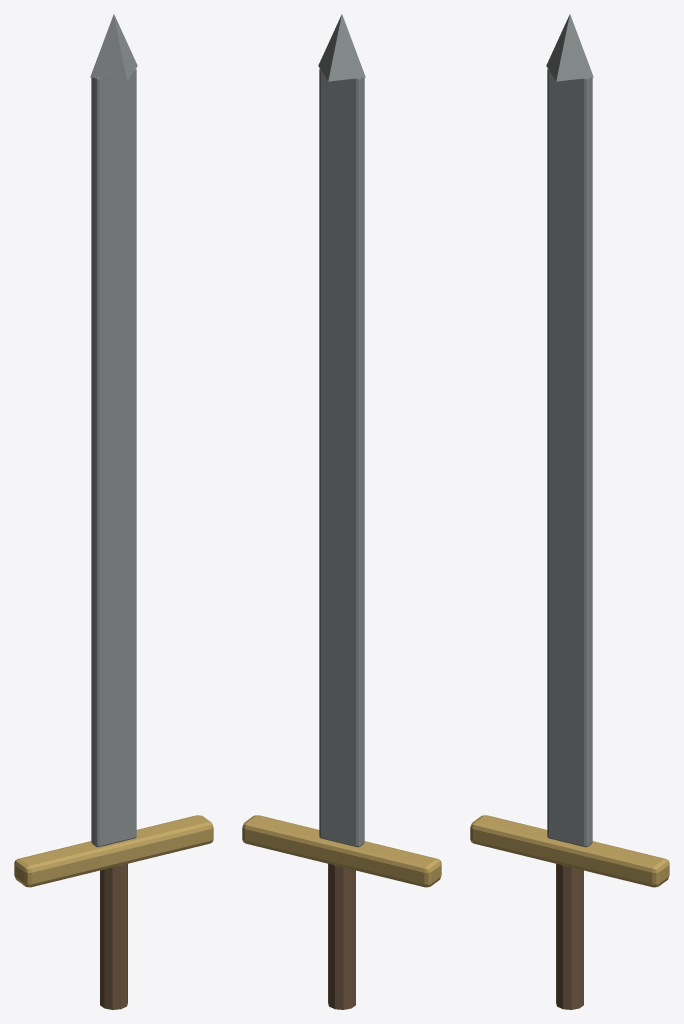
The model's file is greatsword.glb.
3 views of the same model, side by side, from view 1: azimuth 30°, elevation 25°; view 2: azimuth 150°, elevation 25°; view 3: azimuth 330°, elevation 25° (orthographic).
Visible parts, largest first — view 1: Blade, Guard, Grip; view 2: Blade, Guard, Grip; view 3: Blade, Guard, Grip.
Boxes of the visible parts, bbox=[...] form: Blade: bbox=[90, 14, 137, 847]; Guard: bbox=[14, 815, 213, 887]; Grip: bbox=[100, 864, 127, 1009]; Blade: bbox=[318, 14, 365, 847]; Guard: bbox=[242, 815, 441, 887]; Grip: bbox=[328, 864, 355, 1009]; Blade: bbox=[546, 14, 593, 847]; Guard: bbox=[470, 815, 669, 887]; Grip: bbox=[556, 864, 583, 1009].
Bounding box in the file's own units: 22 × 110 × 5.52.
